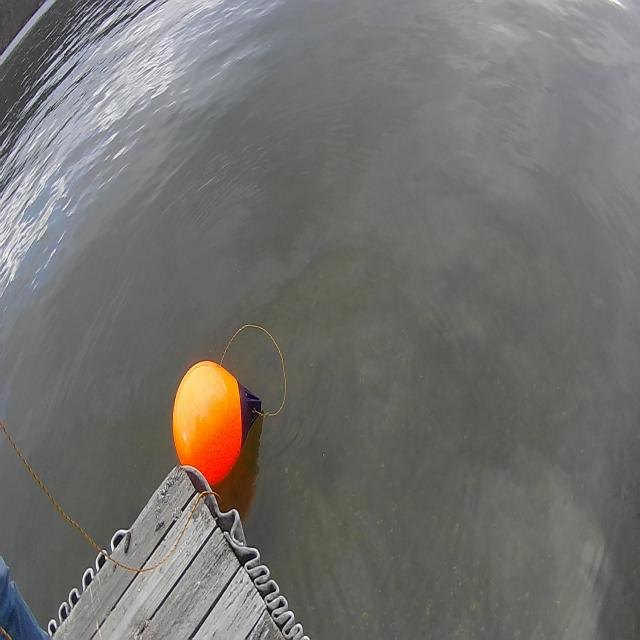Buoy: (170, 354, 246, 489)
